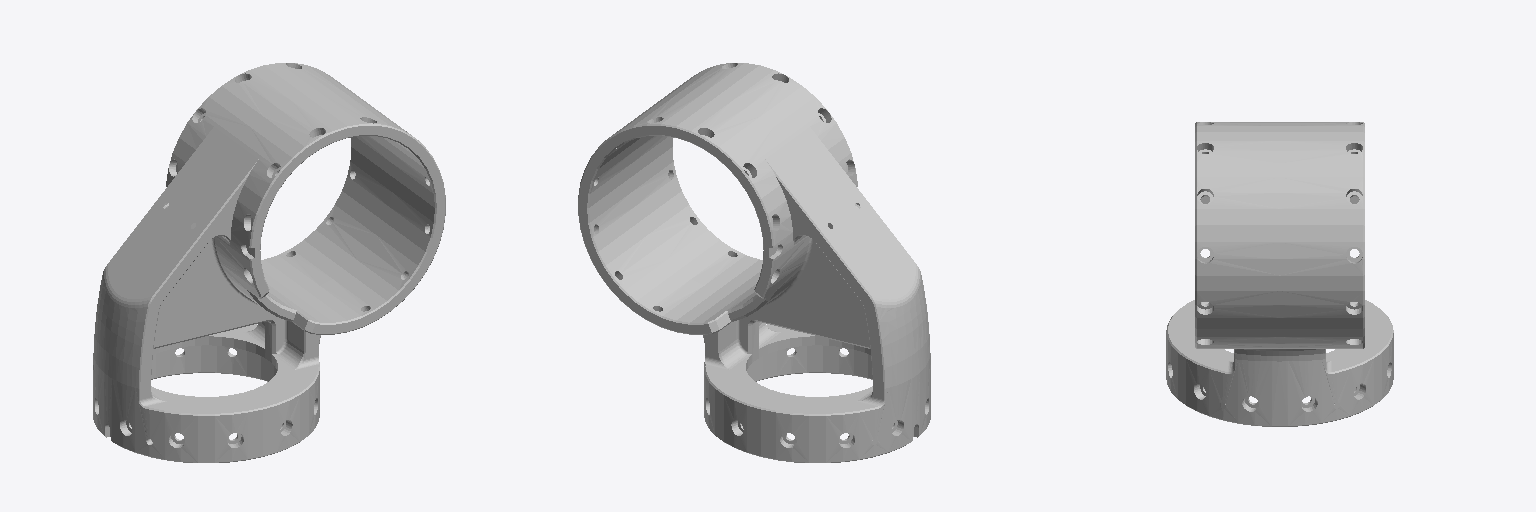
Rendered from L_arm_l1_0.obj.
3 renders of one model, left to right at view 1: azimuth 30°, elevation 25°; view 2: azimuth 150°, elevation 25°; view 3: azimuth 270°, elevation 25°, orthographic.
Bounding box in the file's own units: 0.1189 × 0.1135 × 0.079.